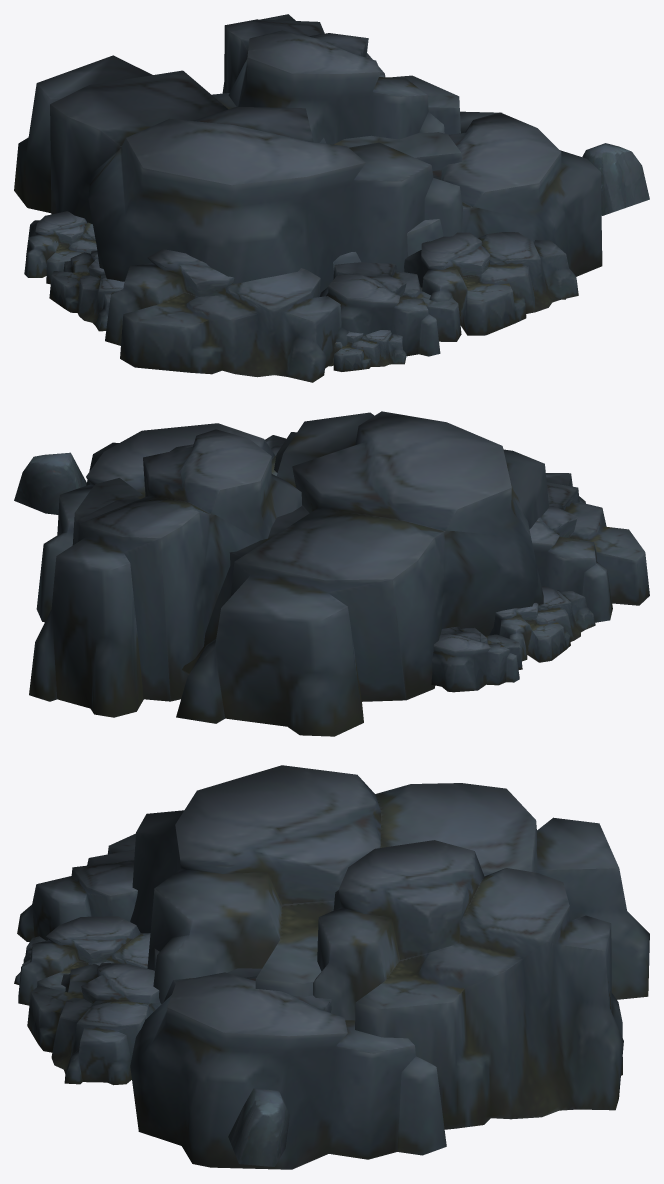
File: Area_13_12.fbx
The picture shows the model from 3 angles, top to bottom: view 1: azimuth 30°, elevation 25°; view 2: azimuth 150°, elevation 25°; view 3: azimuth 270°, elevation 25°; orthographic projection. The views are drawn at different scales.
Visible parts, largest first — view 1: Area_13_12; view 2: Area_13_12; view 3: Area_13_12.
Boxes of the visible parts, <box> form: Area_13_12: <box>14,14,649,382</box>; Area_13_12: <box>14,411,649,736</box>; Area_13_12: <box>14,765,649,1169</box>.
Size of the model in its own units: 6963 by 2171 by 6328.
